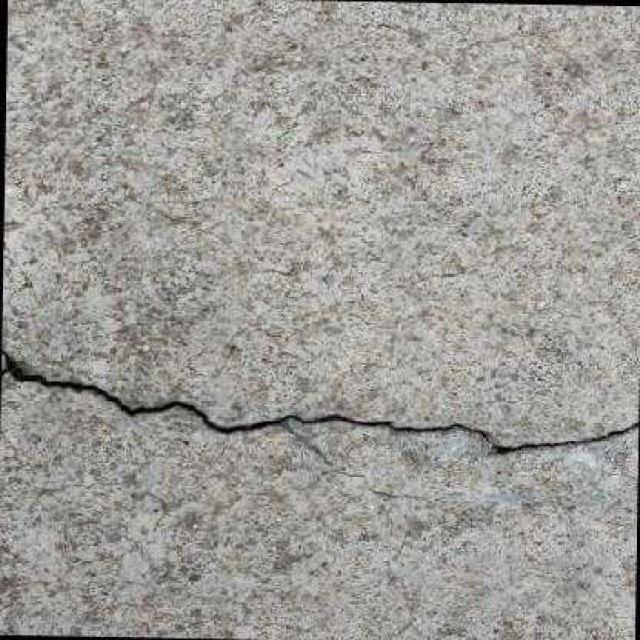D00: (0, 348, 638, 454)
